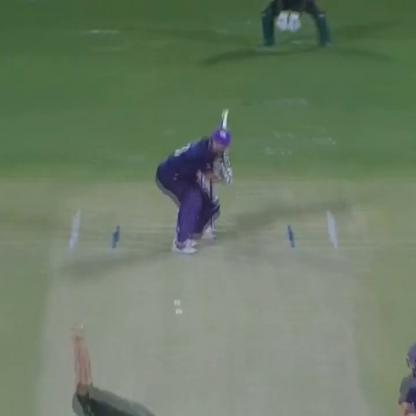ball: (168, 305, 184, 316), (170, 298, 184, 306)
bat: (216, 110, 239, 170)
pitch: (25, 203, 390, 415)
